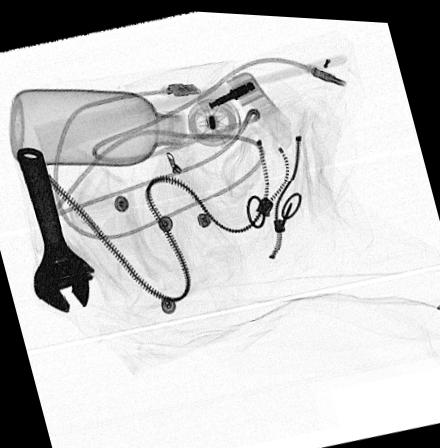Wrench: (15, 142, 95, 316)
